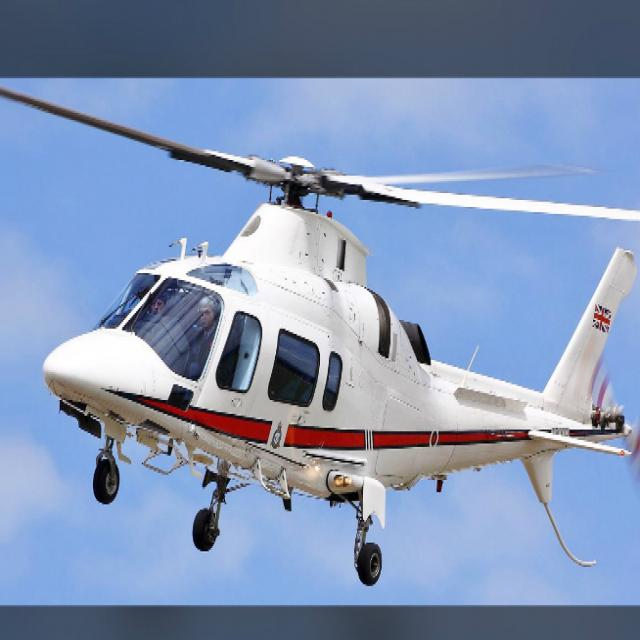helicopter: (37, 107, 640, 591)
